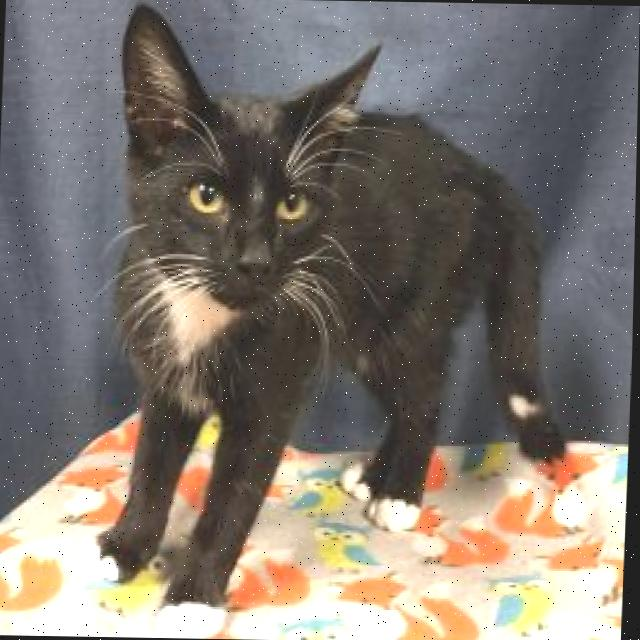Tuxedo: (66, 0, 586, 640)
